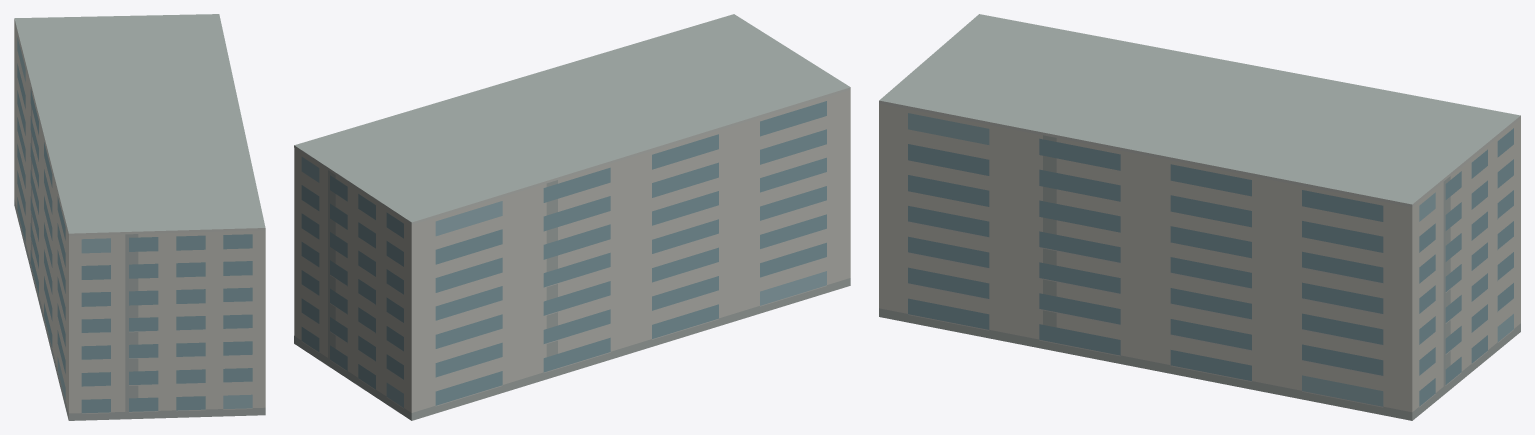
Rendered from survey-upis-32652914.glb.
The picture shows the model from 3 angles, left to right: view 1: azimuth 30°, elevation 25°; view 2: azimuth 150°, elevation 25°; view 3: azimuth 270°, elevation 25°; orthographic projection. The views are drawn at different scales.
Visible parts, largest first — view 1: survey-upis-32652914.tmp; view 2: survey-upis-32652914.tmp; view 3: survey-upis-32652914.tmp.
Boxes of the visible parts, x1=… form: survey-upis-32652914.tmp: x1=14, y1=14, x2=265, y2=420; survey-upis-32652914.tmp: x1=294, y1=14, x2=850, y2=420; survey-upis-32652914.tmp: x1=879, y1=14, x2=1520, y2=420.
Bounding box in the file's own units: 36.07 × 19.1 × 51.34.
